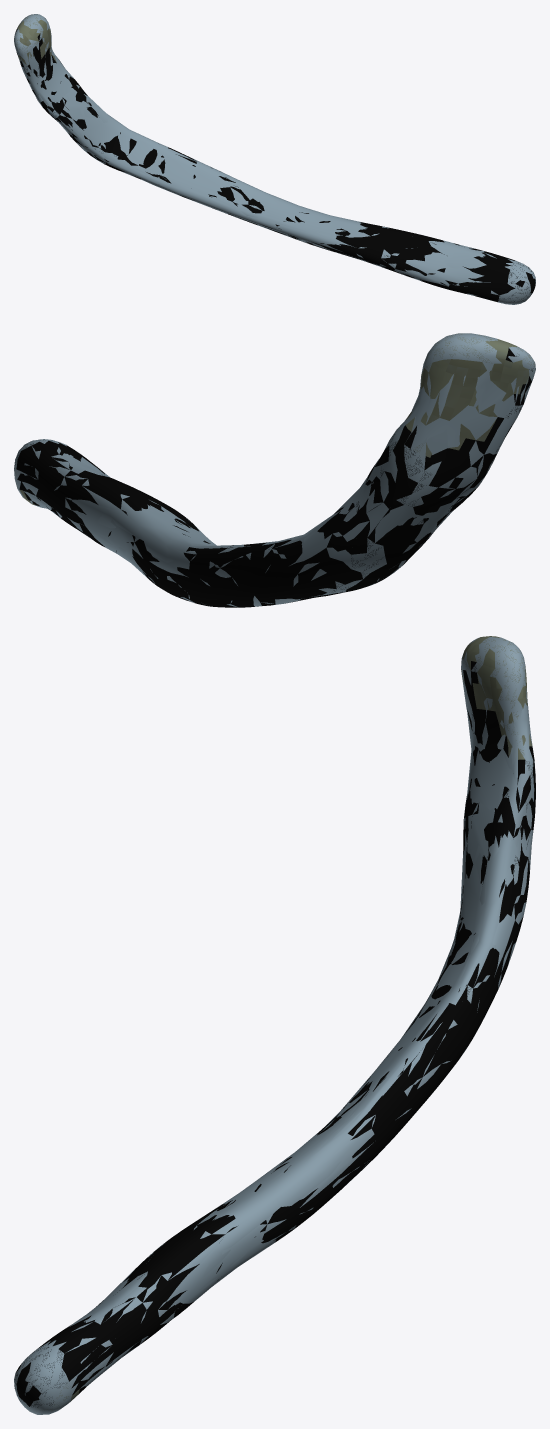
3 views of the same model, one above another, from view 1: azimuth 30°, elevation 25°; view 2: azimuth 150°, elevation 25°; view 3: azimuth 270°, elevation 25° (orthographic). The views are drawn at different scales.
Visible parts, largest first — view 1: CC R08 high, CC R08 low, CC R08; view 2: CC R08 high, CC R08, CC R08 low; view 3: CC R08 high, CC R08, CC R08 low.
Boxes of the visible parts, x1,y1,x2,y2 form: CC R08 high: (14,17,535,303); CC R08 low: (29,47,485,279); CC R08: (14,14,535,304); CC R08 high: (14,334,535,607); CC R08: (14,333,535,607); CC R08 low: (28,386,504,599); CC R08 high: (14,636,535,1414); CC R08: (14,637,535,1414); CC R08 low: (84,703,531,1384).
Bounding box in the file's own units: 15.08 × 9.99 × 9.99.
